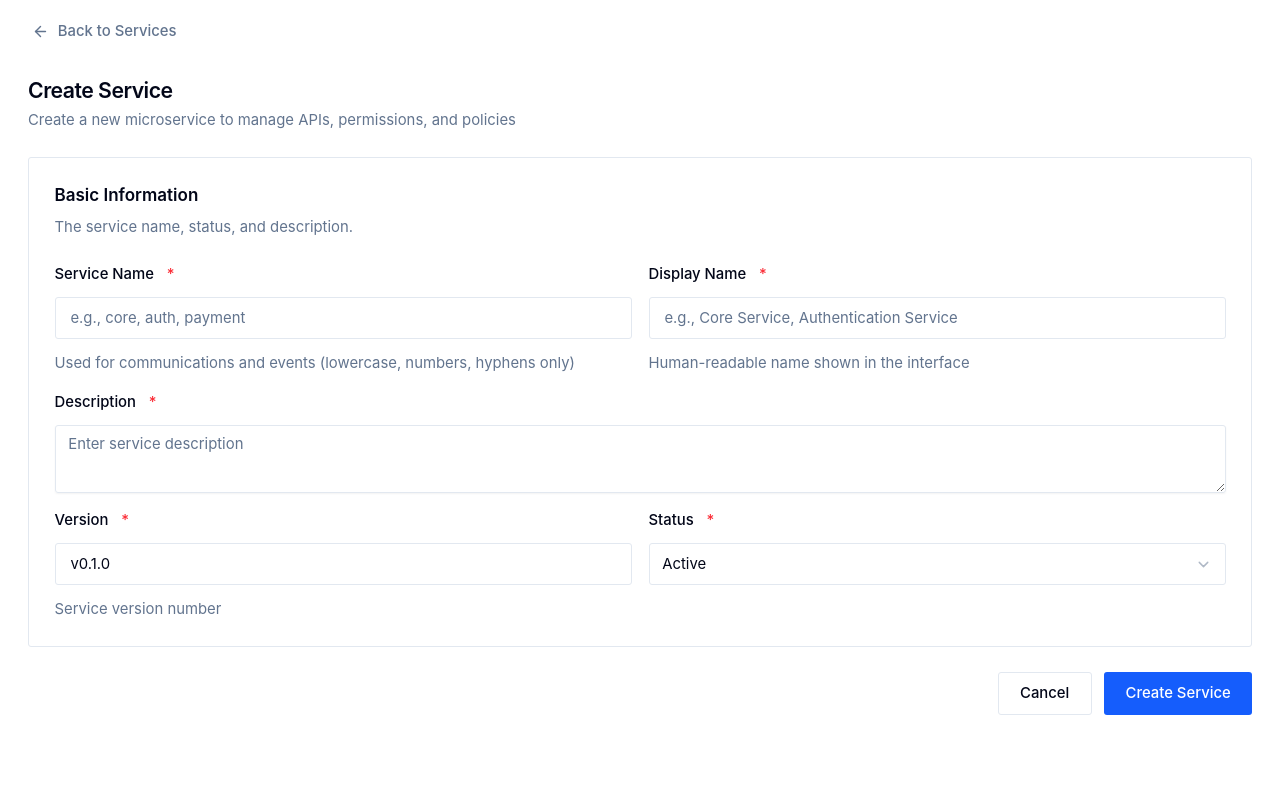
Test case: ServiceAddOrUpdateForm › maps structured server field errors onto the offending inputs
The width and height of the screenshot is (1280, 812).
In the field labelled "Service Name *": (343, 318) [54,297,632,340], type "billing"
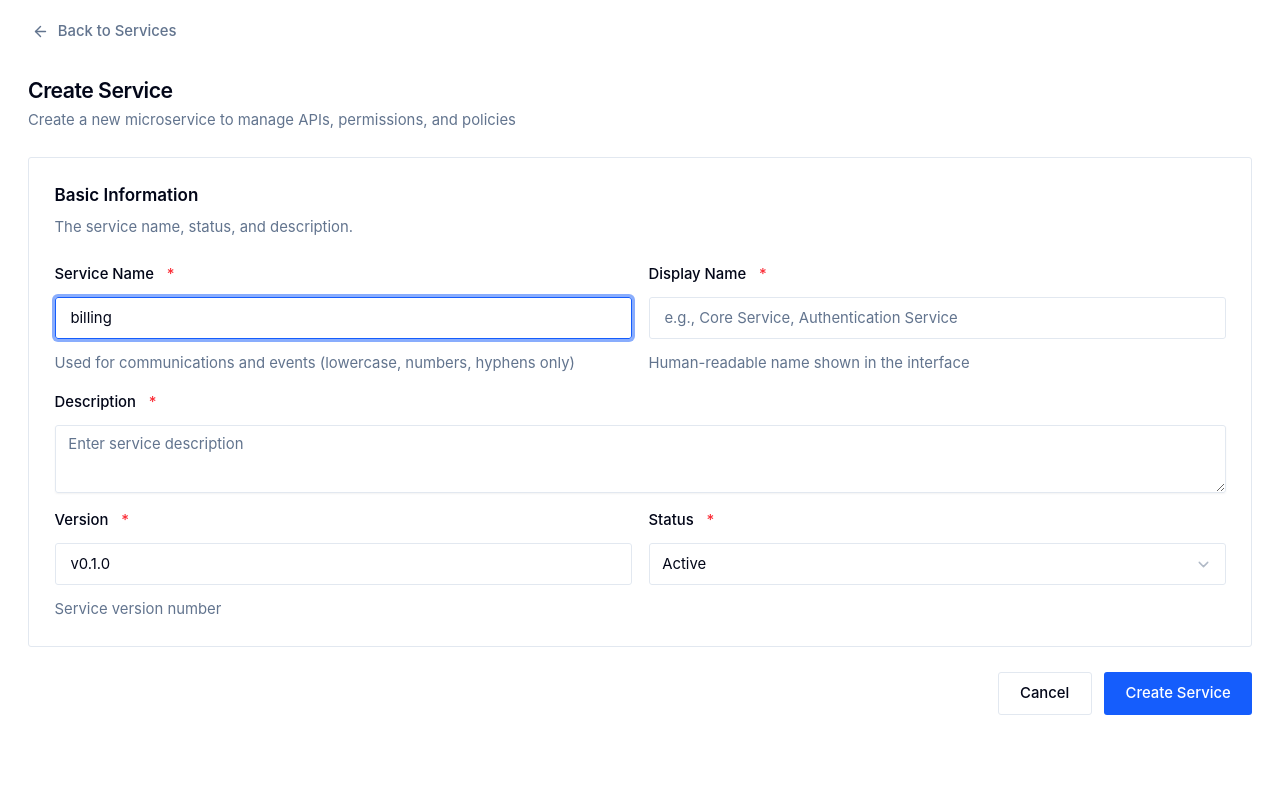
In the field labelled "Display Name *": (937, 318) [648,297,1226,340], type "Billing Service"
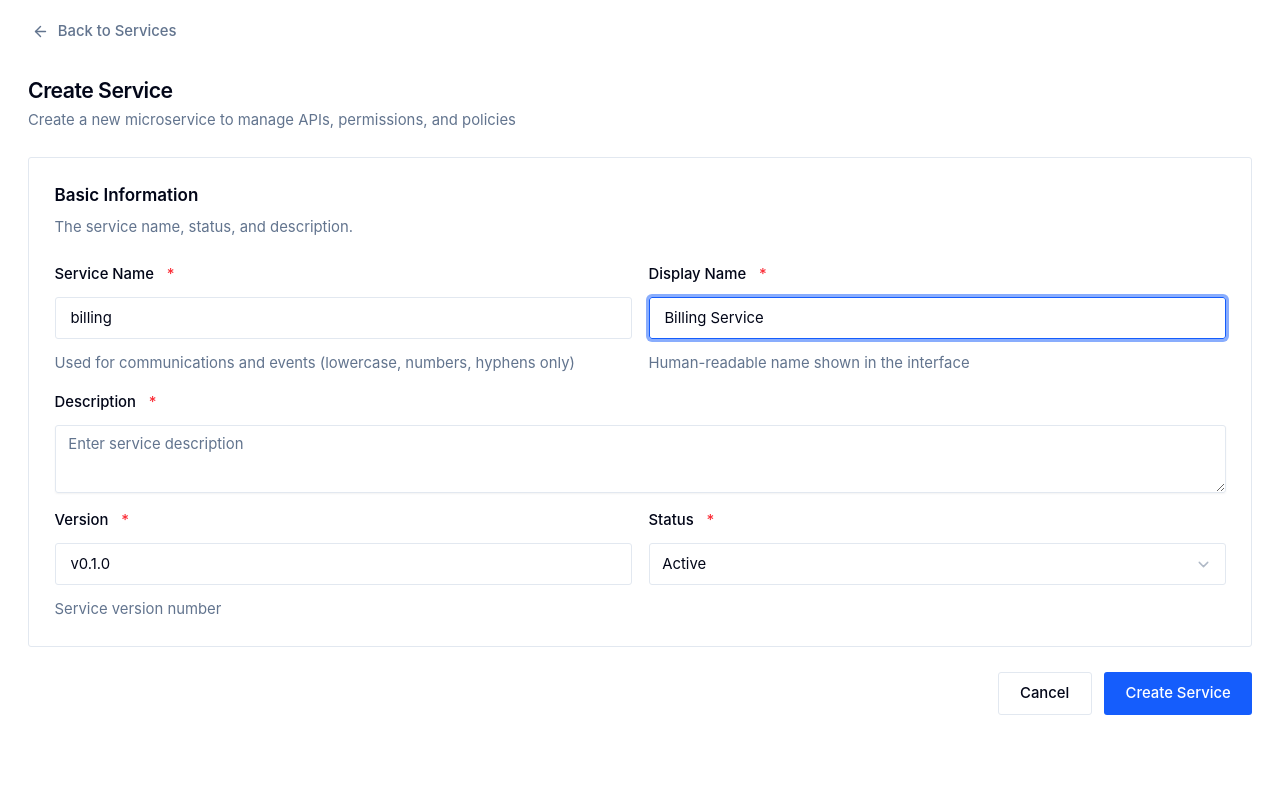
In the text box labelled "Description *": (640, 459) [54,425,1226,493], type "Handles invoices and payments"
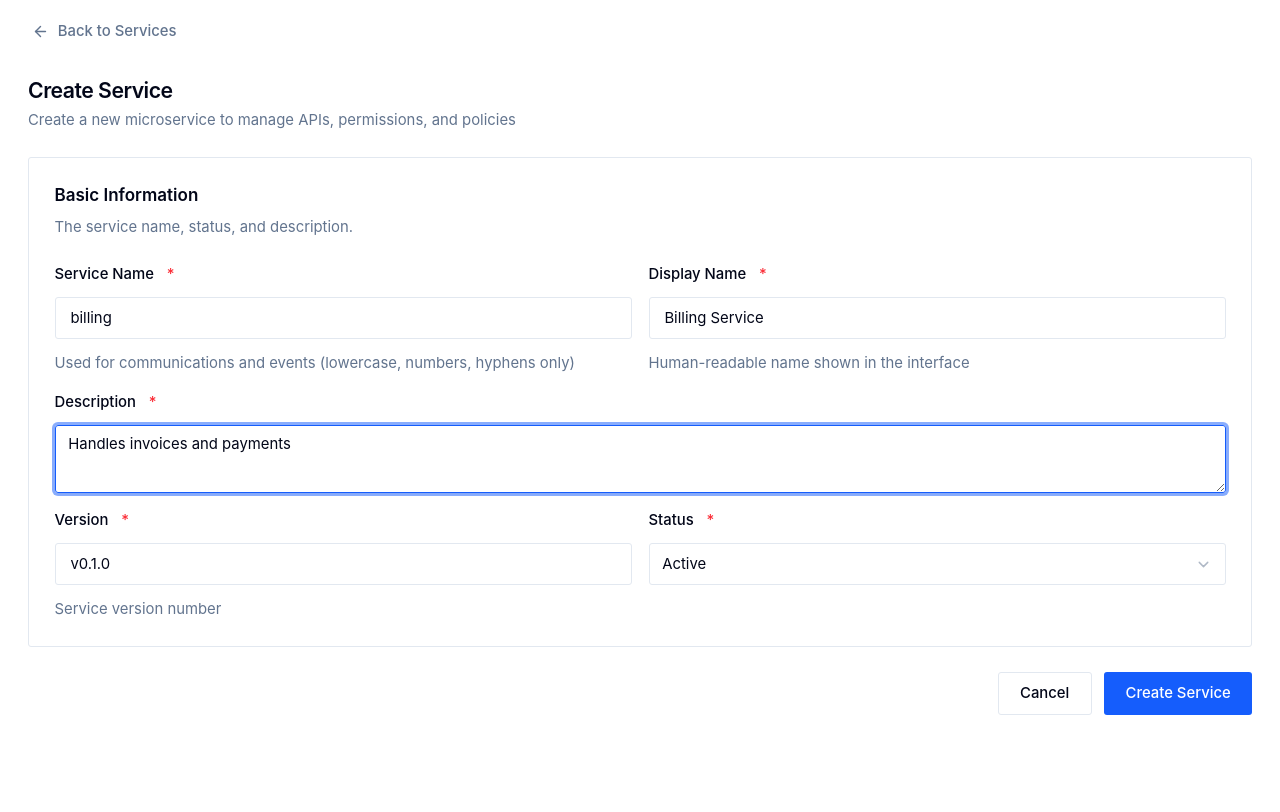
Click the button "Create Service": (1178, 694) [1104,672,1252,715]
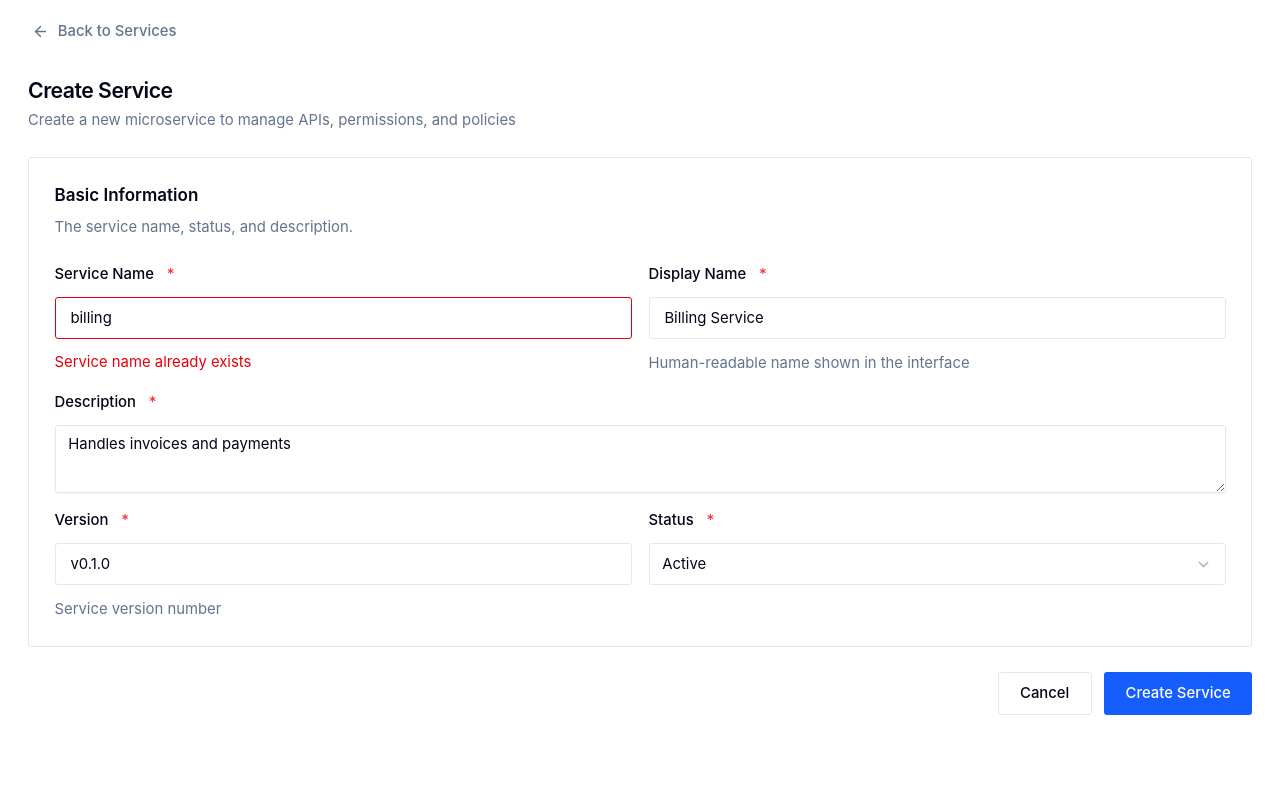
Result: the text "Service name already exists" is shown at [54,353,251,371]
